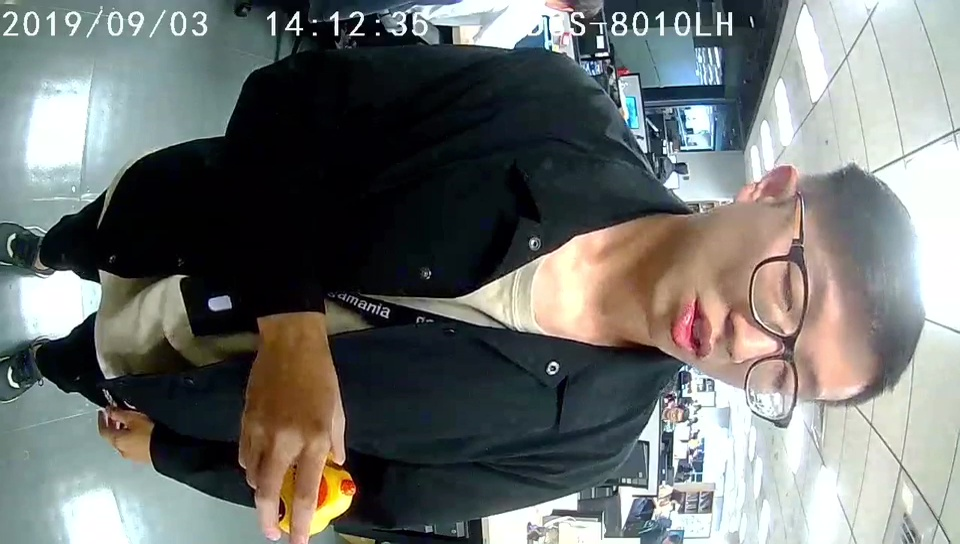car: (308, 451, 354, 536)
